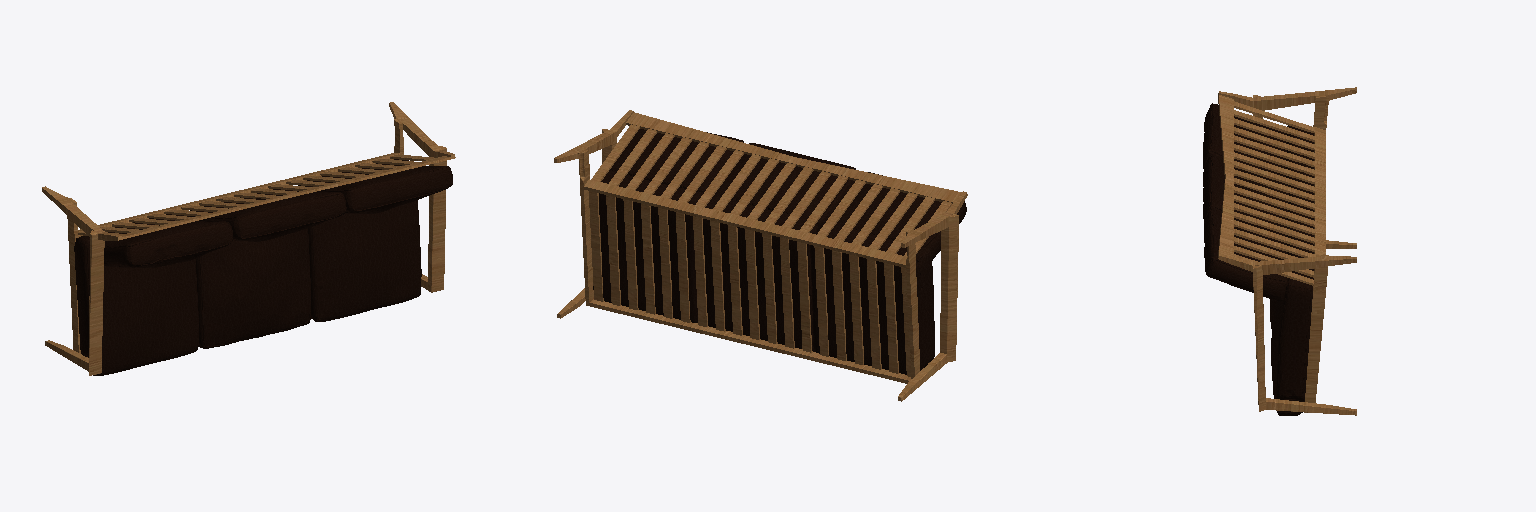
The picture shows the model from 3 angles: view 1: azimuth 30°, elevation 25°; view 2: azimuth 150°, elevation 25°; view 3: azimuth 270°, elevation 25°; orthographic projection.
Parts seen in each view (by area): view 1: Case_sofa_005_Mesh.002; view 2: Case_sofa_005_Mesh.002; view 3: Case_sofa_005_Mesh.002.
Part boxes in pixels (x1,y1,x2,y2): Case_sofa_005_Mesh.002: (42,102,455,375); Case_sofa_005_Mesh.002: (554,110,967,401); Case_sofa_005_Mesh.002: (1203,87,1356,415).
Size of the model in its own units: 1.02 by 0.4577 by 0.3857.
Materials: 1 (1 with a texture image).